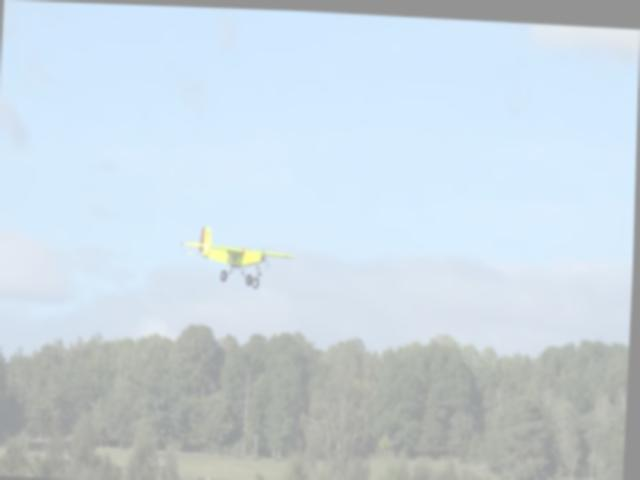plane: (179, 223, 297, 289)
